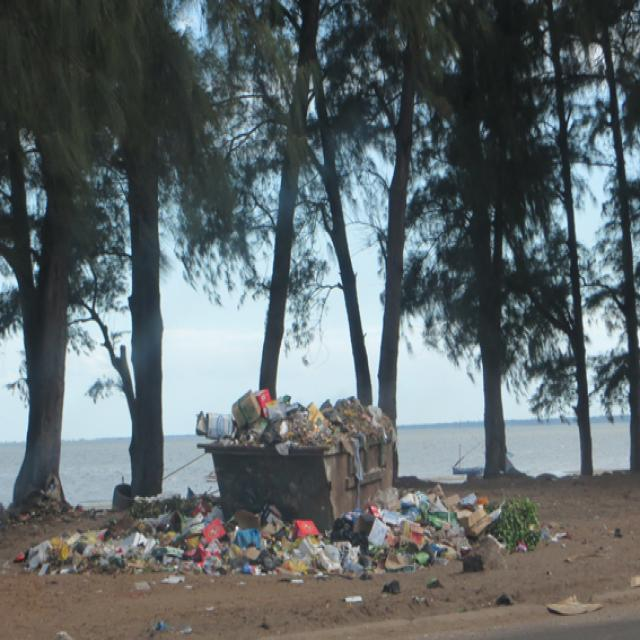bin: (201, 433, 399, 533)
trash: (15, 488, 556, 582), (198, 395, 389, 431)
